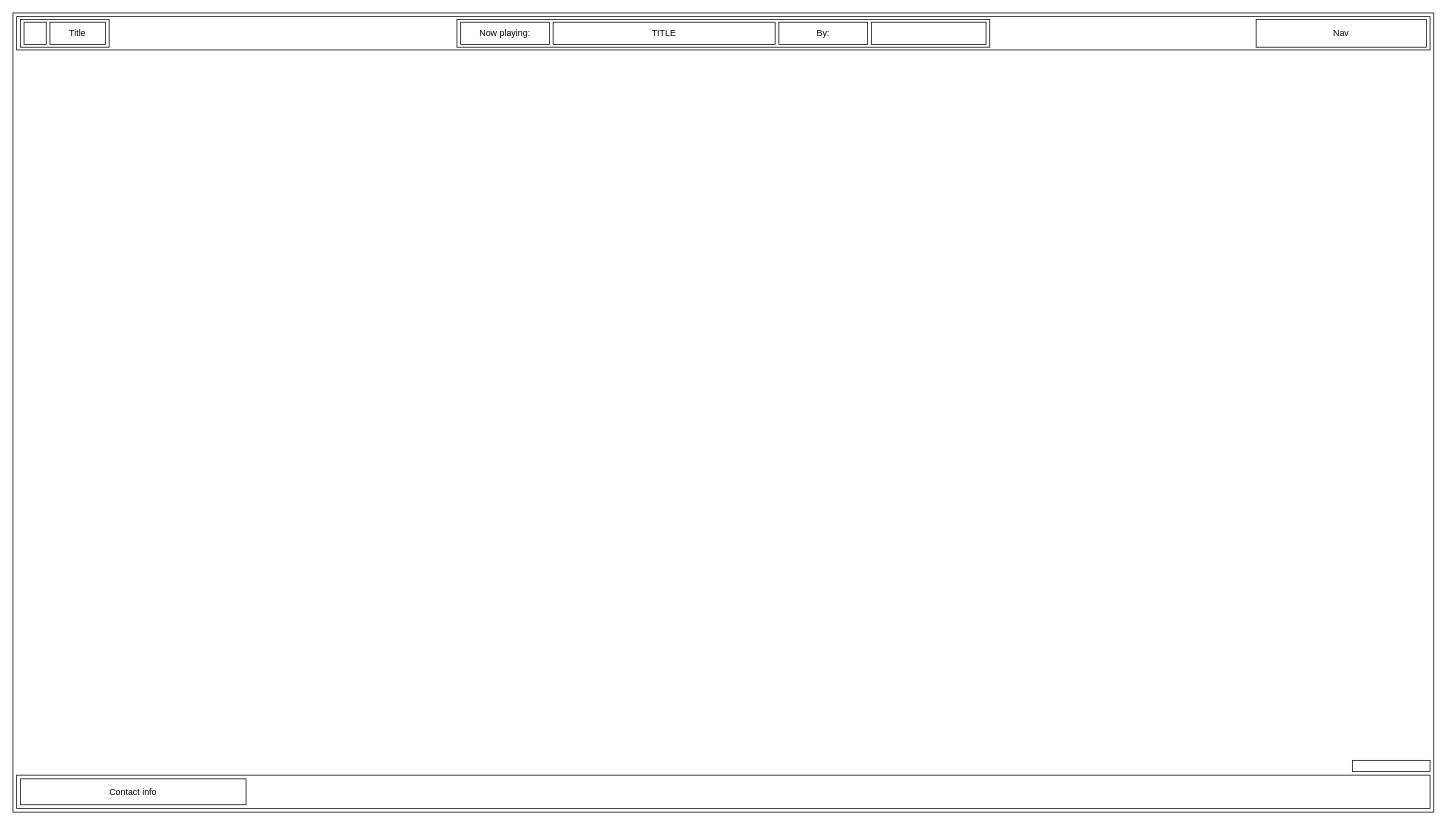
Some shapes in this 1447 by 825 pixel diagram are drawn without their labels. The centre of each missing label's shape, as x and y in pixels:
"ARTIST" goes at pixel 928 32.
"Credits / Settings" goes at pixel 1391 765.
"Logo" goes at pixel 34 32.
